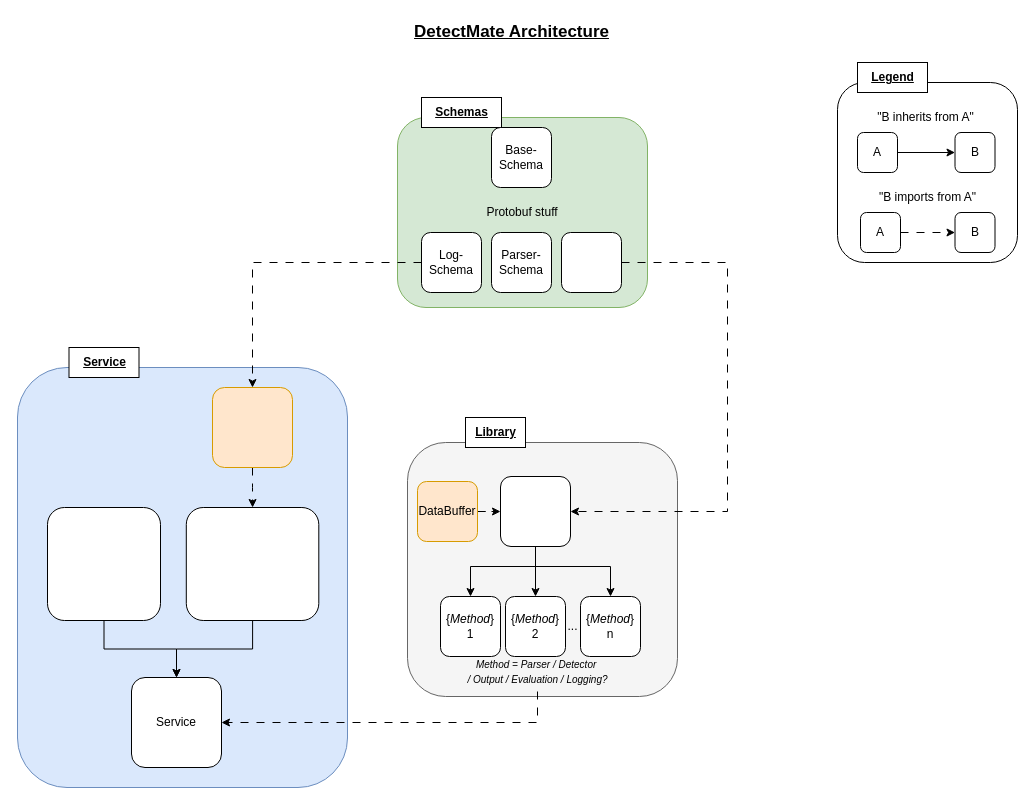
This 1035x805 diagram has some shape labels left out. The centre of each missing label's shape, as x and y in pixels:
"DataChannel" belongs at [252,427].
"Detector-Schema" belongs at [591,262].
"Engine input = read() output = process(input) write(output)" belongs at [252,563].
"Manager Start, stop, reconfigure Engine" belongs at [103,563].
"{ Method }-Base" belongs at [535,511].
